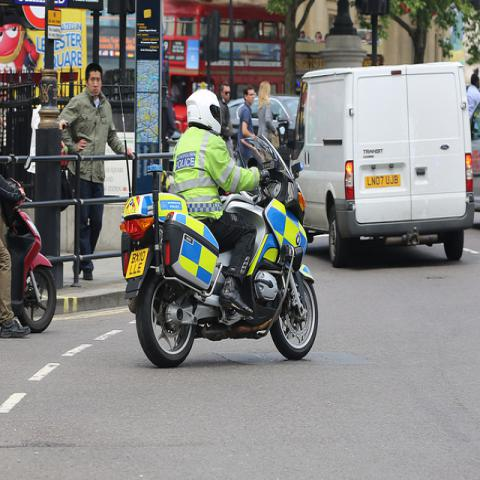bus: (162, 2, 286, 138)
car: (227, 96, 300, 154), (469, 99, 479, 215)
motorcycle: (118, 133, 320, 366), (0, 196, 57, 333)
truck: (294, 64, 477, 261)
